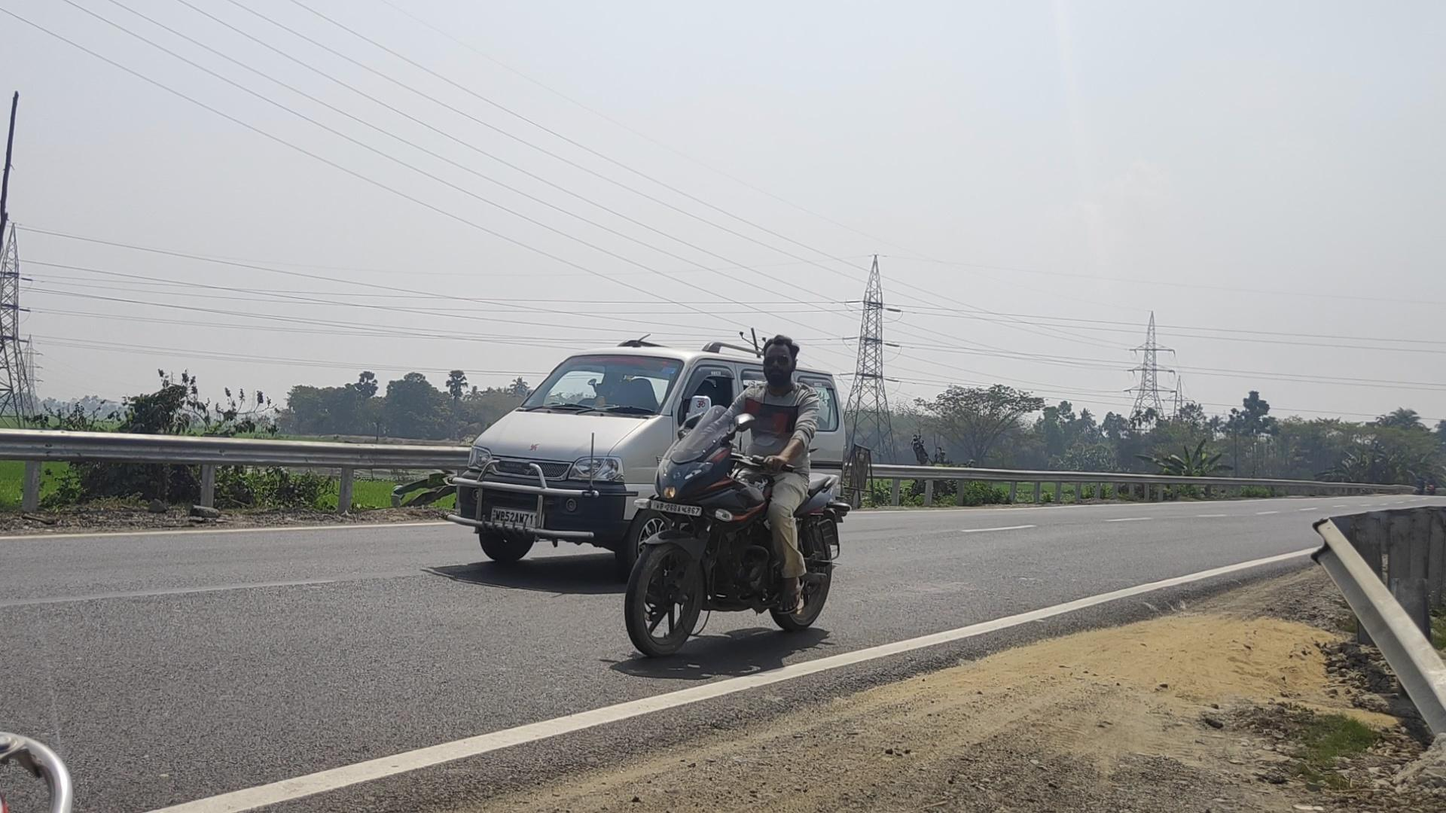bike: (624, 336, 851, 658)
van: (442, 342, 853, 574)
